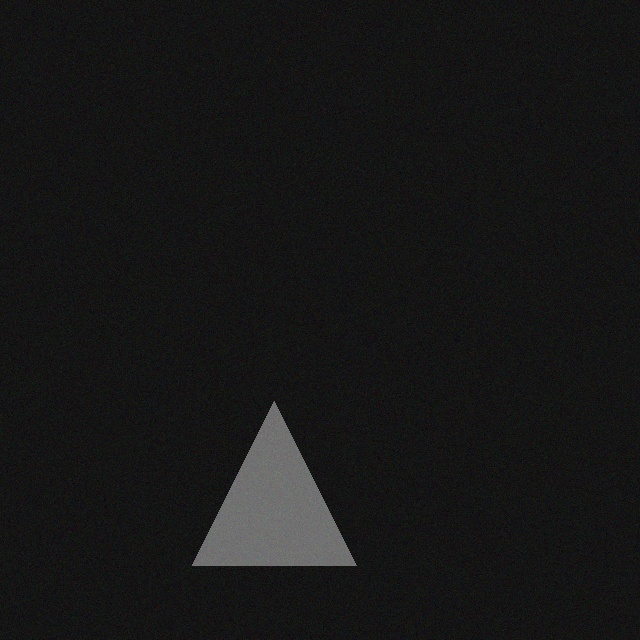triangle: (190, 415, 354, 579)
